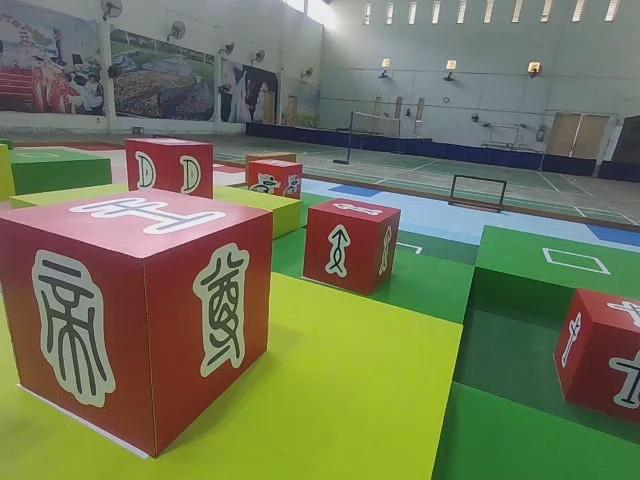R1: (244, 156, 302, 203)
R2 Fake: (0, 186, 275, 461)
R2 Real: (550, 285, 640, 427), (303, 196, 404, 296), (123, 134, 213, 195)
